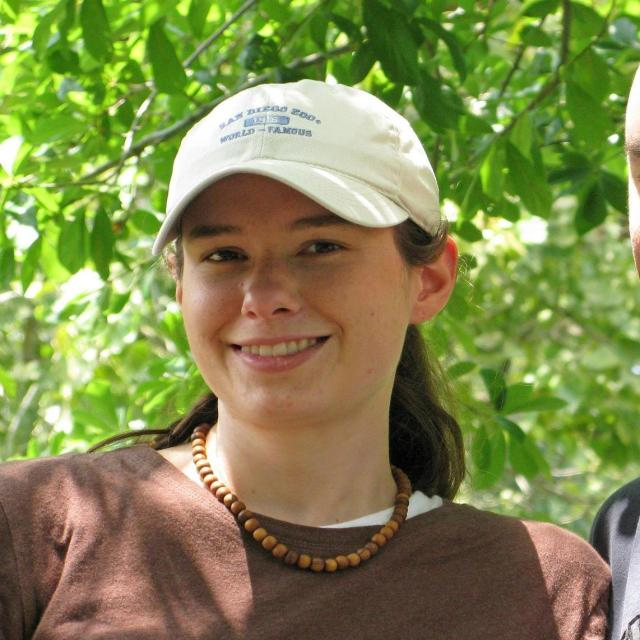no-glass: (180, 237, 347, 277)
